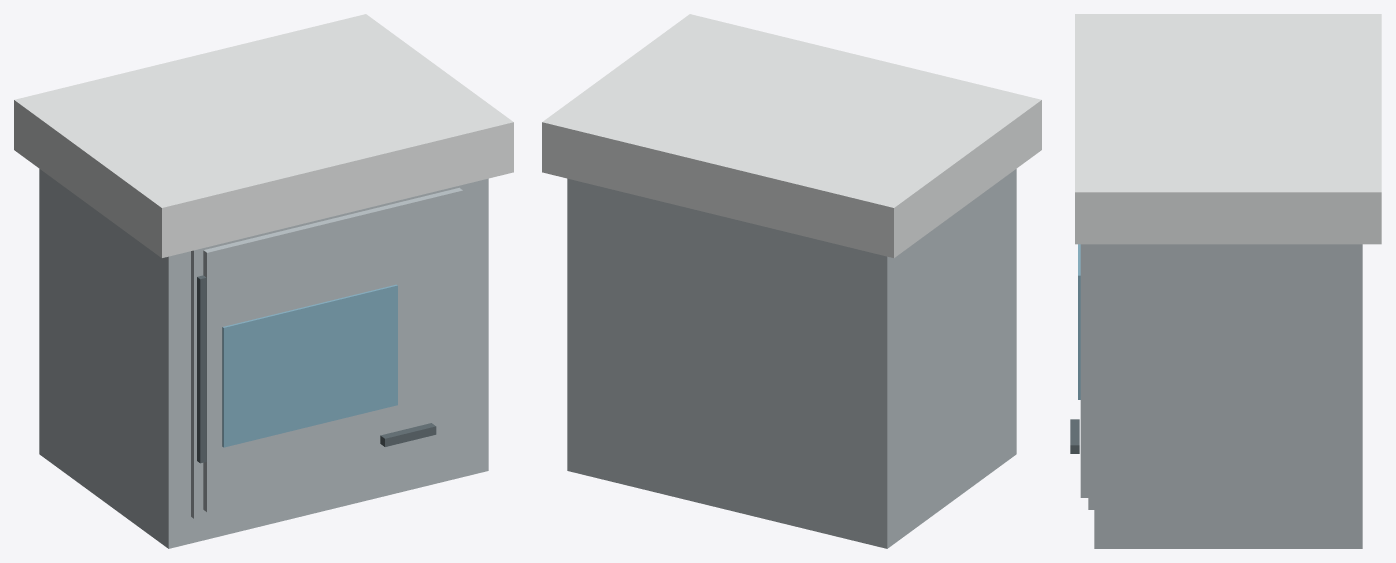
Rendered from fume_hood.glb.
3 renders of one model, left to right at view 1: azimuth 30°, elevation 25°; view 2: azimuth 150°, elevation 25°; view 3: azimuth 270°, elevation 25°, orthographic. The views are drawn at different scales.
Bounding box in the file's own units: 1.1 × 1.05 × 0.8125.
